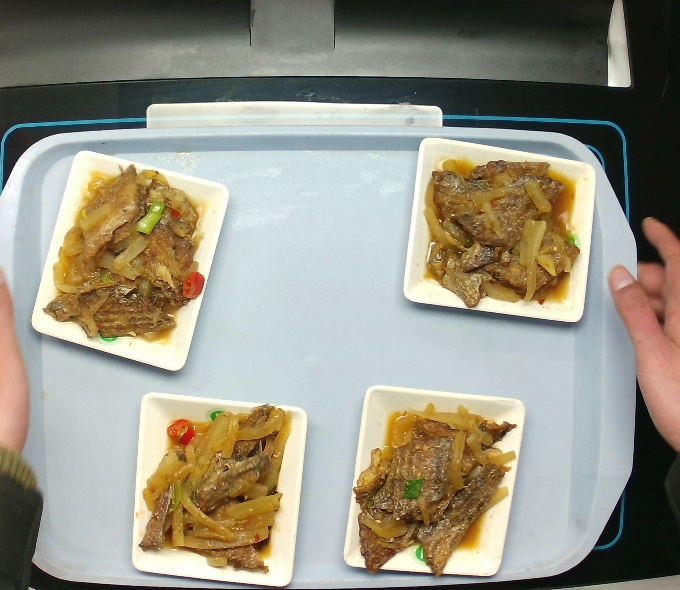wcq-DaiYu: (49, 170, 203, 347), (135, 406, 288, 571), (352, 403, 504, 569), (424, 155, 577, 302)
